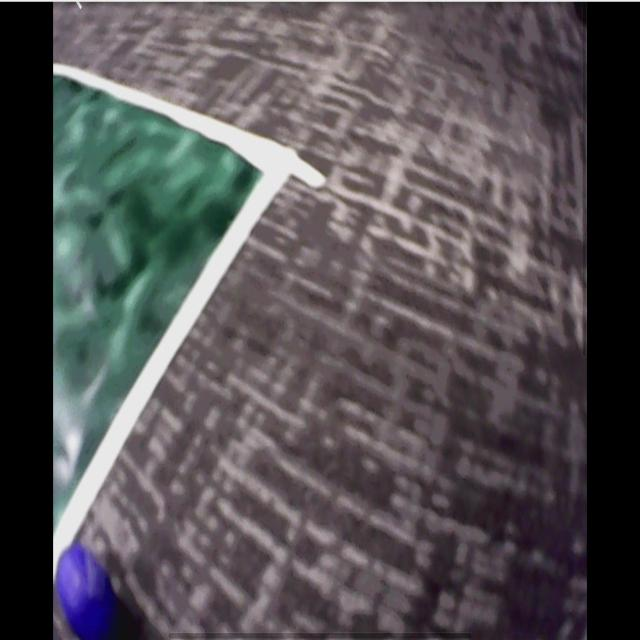ball: (57, 549, 116, 640)
